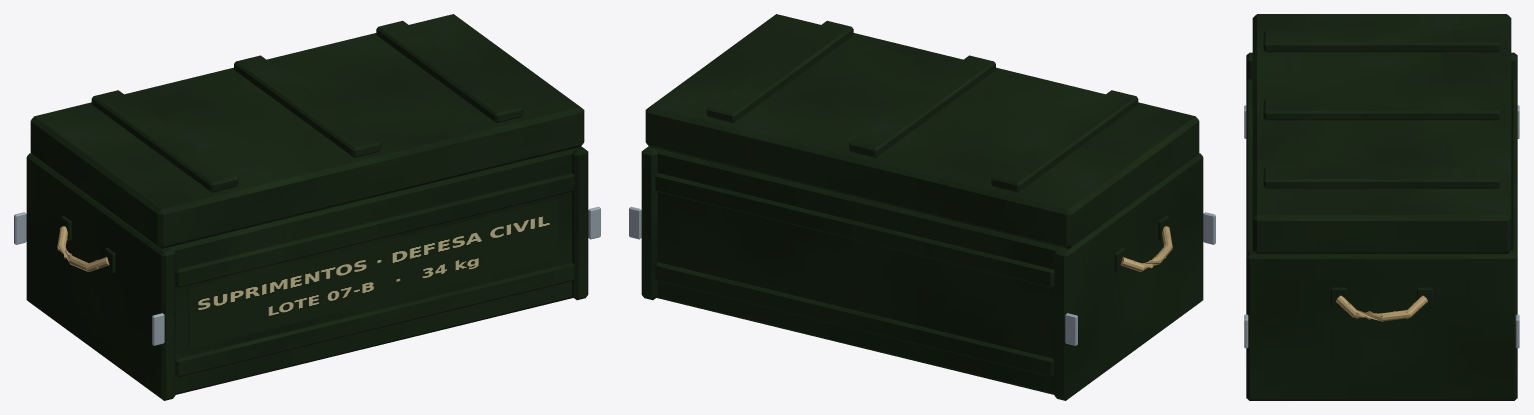
The model's file is caixa_militar.glb.
3 views of the same model, side by side, from view 1: azimuth 30°, elevation 25°; view 2: azimuth 150°, elevation 25°; view 3: azimuth 270°, elevation 25° (orthographic).
Parts seen in each view (by area): view 1: caixa_militar_tampa_verde_caixa, caixa_militar_verde_caixa, caixa_militar_estencil_militar, caixa_militar_aco_pintado, caixa_militar_corda; view 2: caixa_militar_verde_caixa, caixa_militar_tampa_verde_caixa, caixa_militar_aco_pintado, caixa_militar_corda; view 3: caixa_militar_tampa_verde_caixa, caixa_militar_verde_caixa, caixa_militar_corda, caixa_militar_aco_pintado.
Part boxes in pixels (x1,y1,x2,y2): caixa_militar_tampa_verde_caixa: (30, 14, 584, 248); caixa_militar_verde_caixa: (26, 146, 588, 400); caixa_militar_estencil_militar: (188, 199, 558, 348); caixa_militar_aco_pintado: (14, 206, 600, 345); caixa_militar_corda: (57, 226, 109, 271); caixa_militar_verde_caixa: (641, 146, 1203, 400); caixa_militar_tampa_verde_caixa: (645, 14, 1199, 248); caixa_militar_aco_pintado: (629, 206, 1215, 345); caixa_militar_corda: (1120, 226, 1172, 271); caixa_militar_tampa_verde_caixa: (1252, 14, 1511, 253); caixa_militar_verde_caixa: (1246, 52, 1517, 400); caixa_militar_corda: (1336, 295, 1427, 321); caixa_militar_aco_pintado: (1244, 105, 1519, 348).
Bounding box in the file's own units: 1.01 × 0.4 × 0.512.
5 materials, 4 textured.
